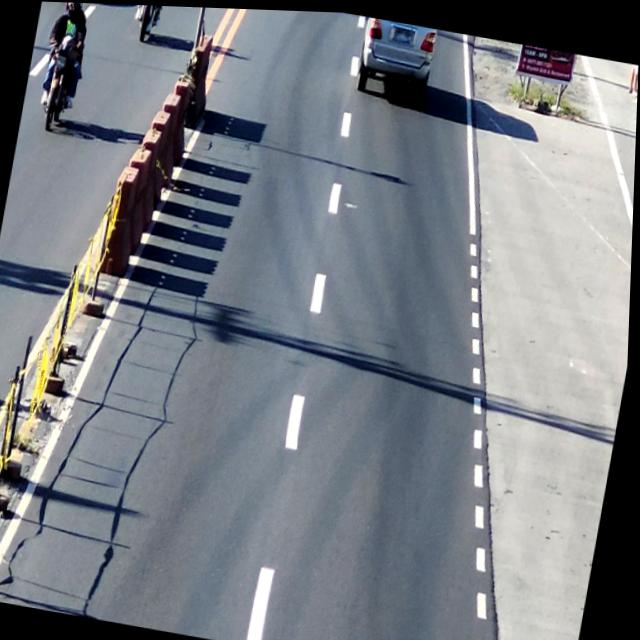Car: (351, 13, 446, 104)
License-Plate: (390, 21, 416, 47)
